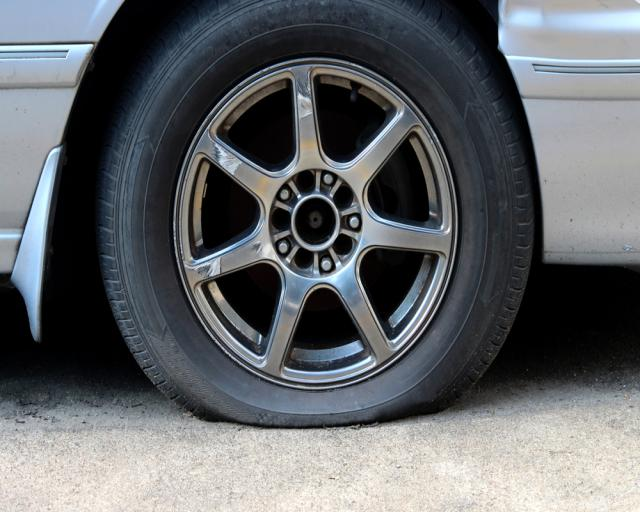tire flat: (98, 0, 533, 426)
